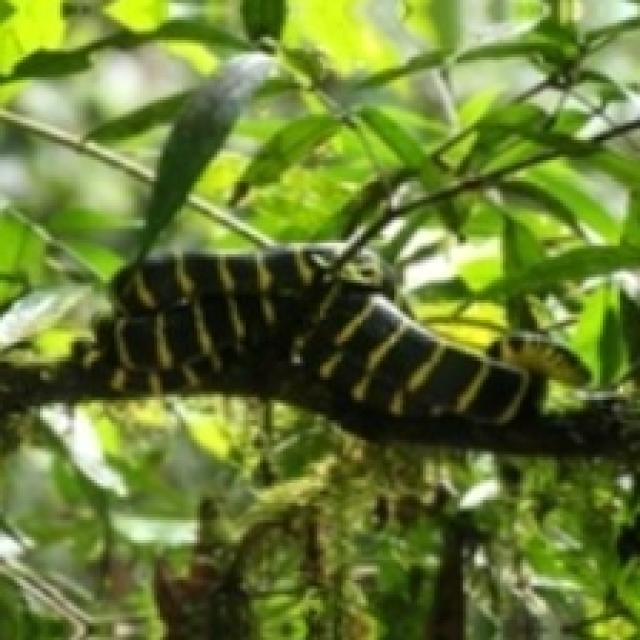mangrove cat snake: (0, 246, 566, 449)
